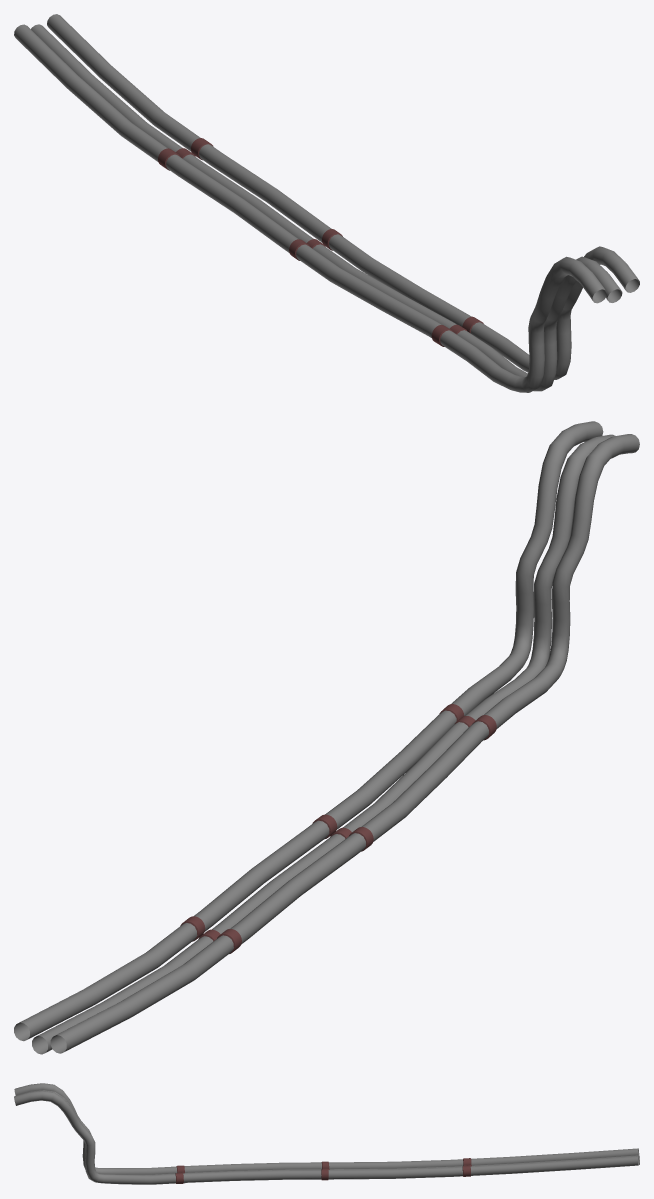
The model's file is Wires.FBX.
3 renders of one model, top to bottom at view 1: azimuth 30°, elevation 25°; view 2: azimuth 150°, elevation 25°; view 3: azimuth 270°, elevation 25°, orthographic. The views are drawn at different scales.
Parts seen in each view (by area): view 1: Object037; view 2: Object037; view 3: Object037.
Part boxes in pixels (x1,y1,x2,y2): Object037: (14,14,639,392); Object037: (14,421,639,1054); Object037: (14,1083,639,1184).
Bounding box in the file's own units: 28.79 × 53.73 × 301.
